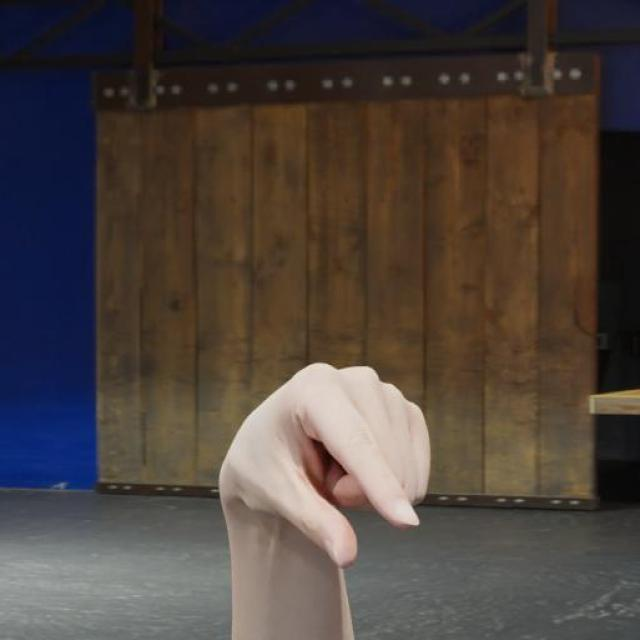Q: (215, 358, 437, 571)
